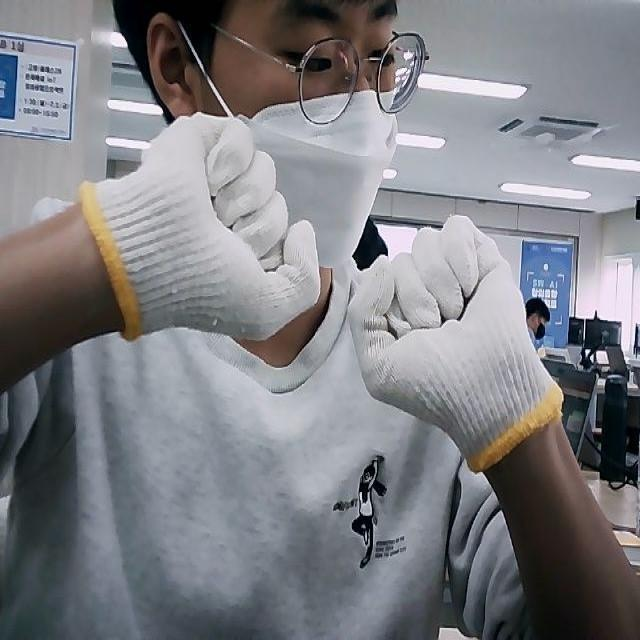Guantes: (82, 109, 322, 340), (347, 214, 564, 463)
